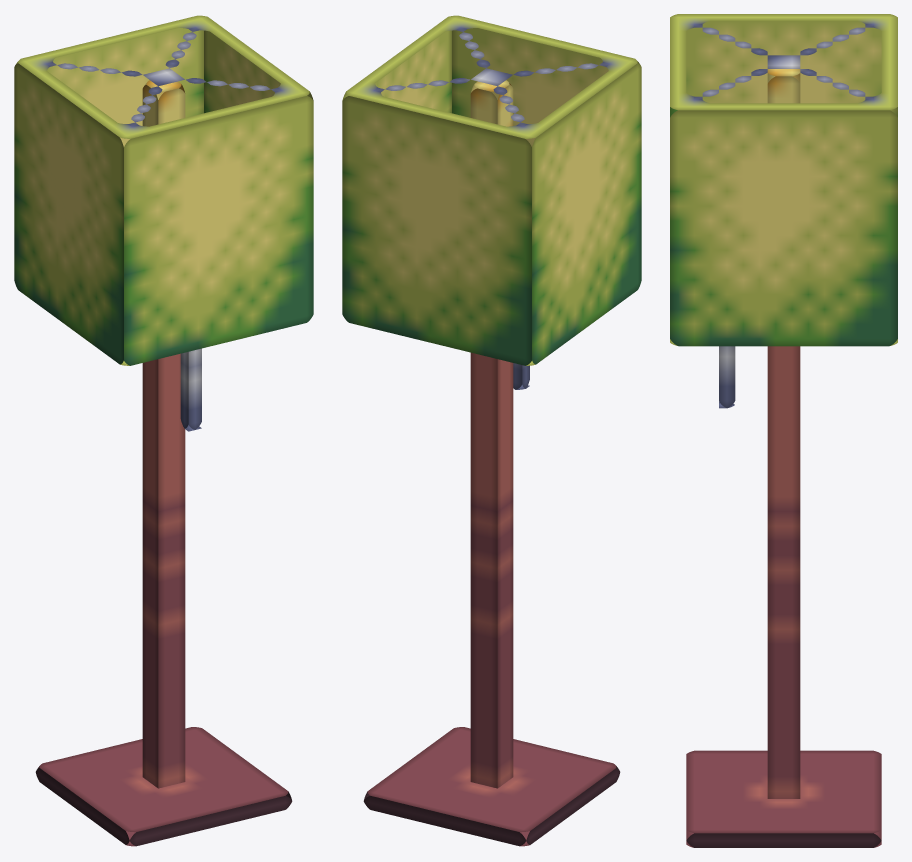
The model's file is lamp.fbx.
3 views of the same model, side by side, from view 1: azimuth 30°, elevation 25°; view 2: azimuth 150°, elevation 25°; view 3: azimuth 270°, elevation 25° (orthographic). The views are drawn at different scales.
Visible parts, largest first — view 1: cube, cube_1, cube_2, cube_3; view 2: cube, cube_1, cube_2; view 3: cube, cube_2, cube_1, cube_3.
Boxes of the visible parts, x1,y1,x2,y2 form: cube: (14,15,313,365); cube_1: (142,80,185,788); cube_2: (35,727,292,846); cube_3: (180,348,201,431); cube: (342,15,641,365); cube_1: (470,80,513,788); cube_2: (363,727,620,846); cube: (670,14,897,346); cube_2: (686,750,881,847); cube_1: (767,69,800,798); cube_3: (719,346,735,408).
Bounding box in the file's own units: 87.5 × 316 × 87.5.
1 material, 1 textured.
